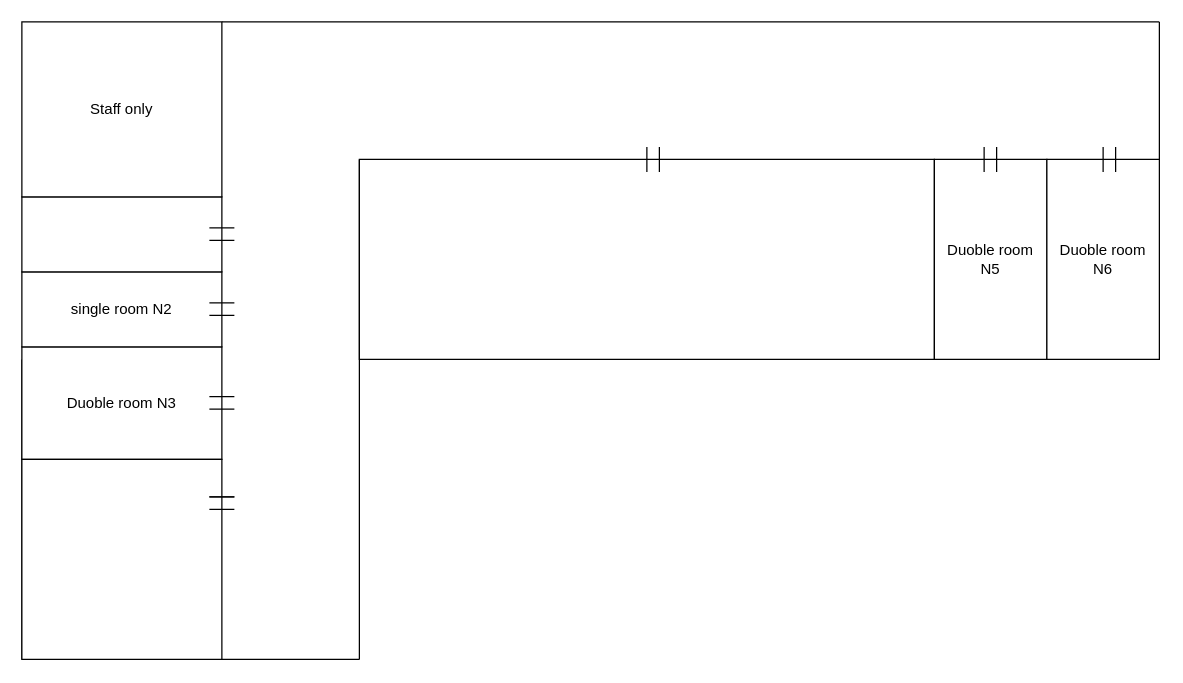
This 1183x683 diagram has some shape labels left out. Here are the shapes that lost their labels. From the top down, the box of each, then its label:
(21, 196, 222, 272): single room N1
(358, 158, 934, 359): Kitchen
(21, 458, 222, 659): Triple room N4
